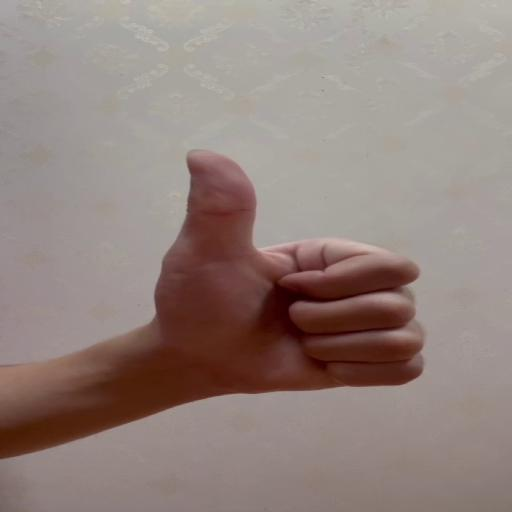thumbs_up: (165, 150, 428, 396)
